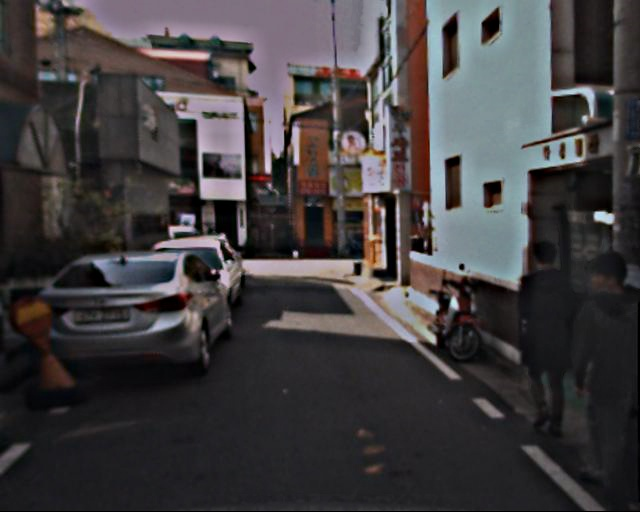person: (551, 257, 640, 497), (503, 240, 582, 437)
